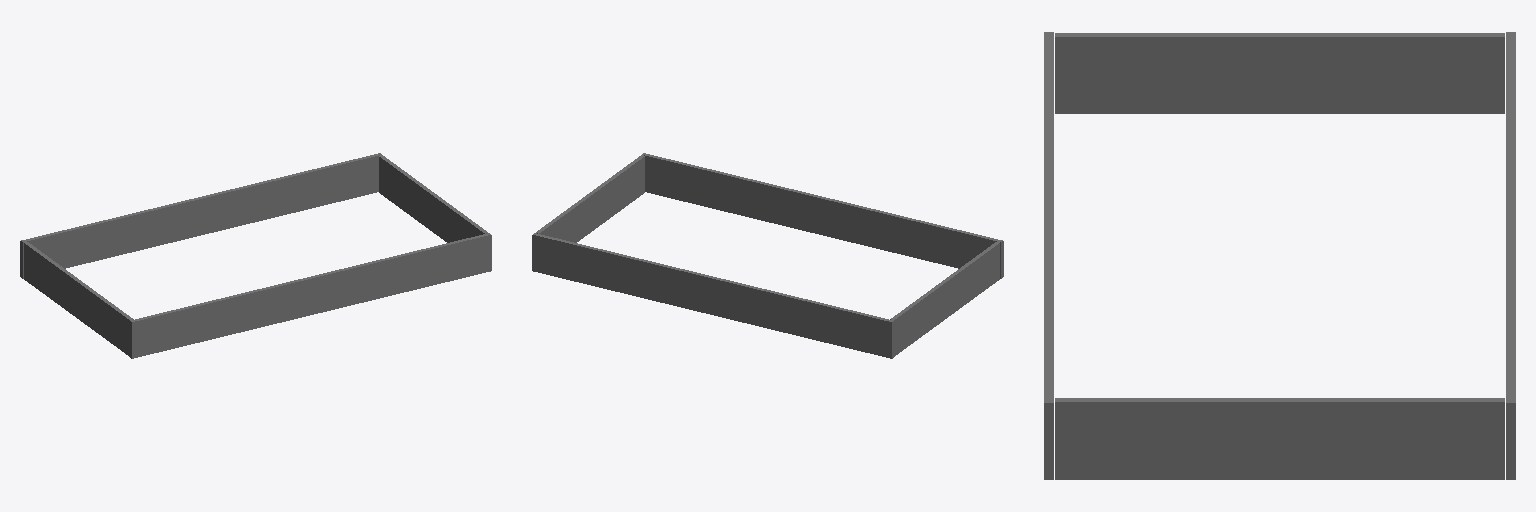
URDF robot description (object):
<?xml version="1.0"?>
<robot name="object">
  <link name="object">
    <visual>
      <origin xyz="0 0 0"/>
      <geometry>
        <mesh
          filename="../mesh/basketball_bound.stl" />
      </geometry>
      <material name="mat">
        <color rgba="0.5 0.5 0.5 1"/>
      </material>
    </visual>

    <collision>
      <origin xyz="0 0 0"/>
      <geometry>
        <mesh
          filename="../mesh/basketball_bound.stl" />
      </geometry>
    </collision>
  </link>
</robot>

--- Facts derived from the render (not from the file) ---
3 views of the same robot in one strip: view 1: azimuth 30°, elevation 25°; view 2: azimuth 150°, elevation 25°; view 3: azimuth 270°, elevation 25° (orthographic).
Robot: object — 1 links, 0 joints (none); root link object; default pose: every joint at zero.
Visible links, largest first — view 1: object; view 2: object; view 3: object.
Boxes of the visible links, x1,y1,x2,y2 form: object: (20,153,491,358); object: (532,153,1003,358); object: (1044,32,1515,479).
Bounding box of the posed robot: 29.27 × 15.72 × 2.85 m (x, y, z).
Meshes: 1 distinct files referenced, 1 mesh visuals loaded (1 binary STL).